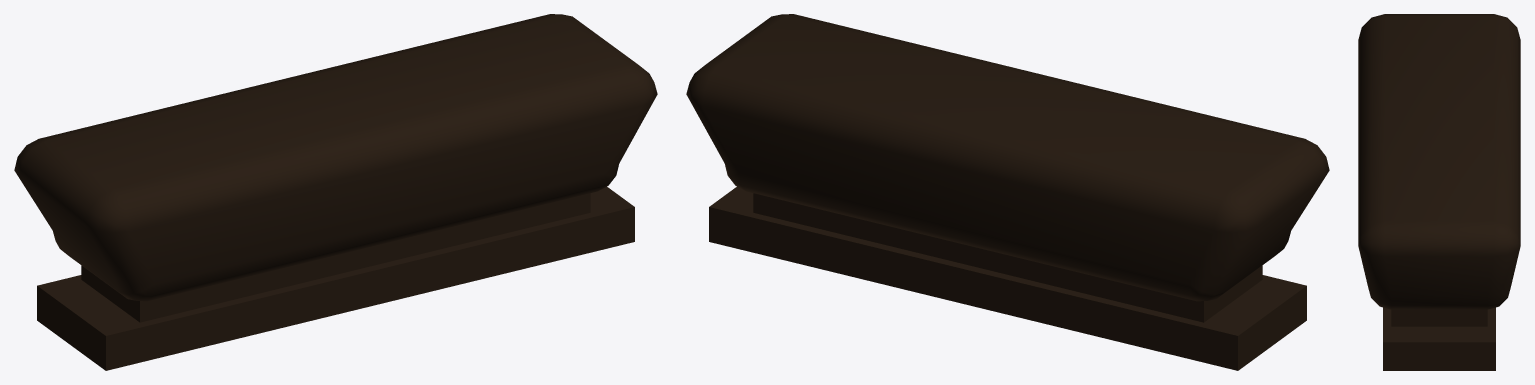
The model's file is Macetero_Setos.FBX.
3 views of the same model, side by side, from view 1: azimuth 30°, elevation 25°; view 2: azimuth 150°, elevation 25°; view 3: azimuth 270°, elevation 25° (orthographic). The views are drawn at different scales.
Visible parts, largest first — view 1: Maceta_Seto; view 2: Maceta_Seto; view 3: Maceta_Seto.
Part boxes in pixels (x1,y1,x2,y2): Maceta_Seto: [14, 14, 657, 370]; Maceta_Seto: [686, 14, 1329, 370]; Maceta_Seto: [1358, 14, 1520, 370].
Bounding box in the file's own units: 532 × 160 × 161.
